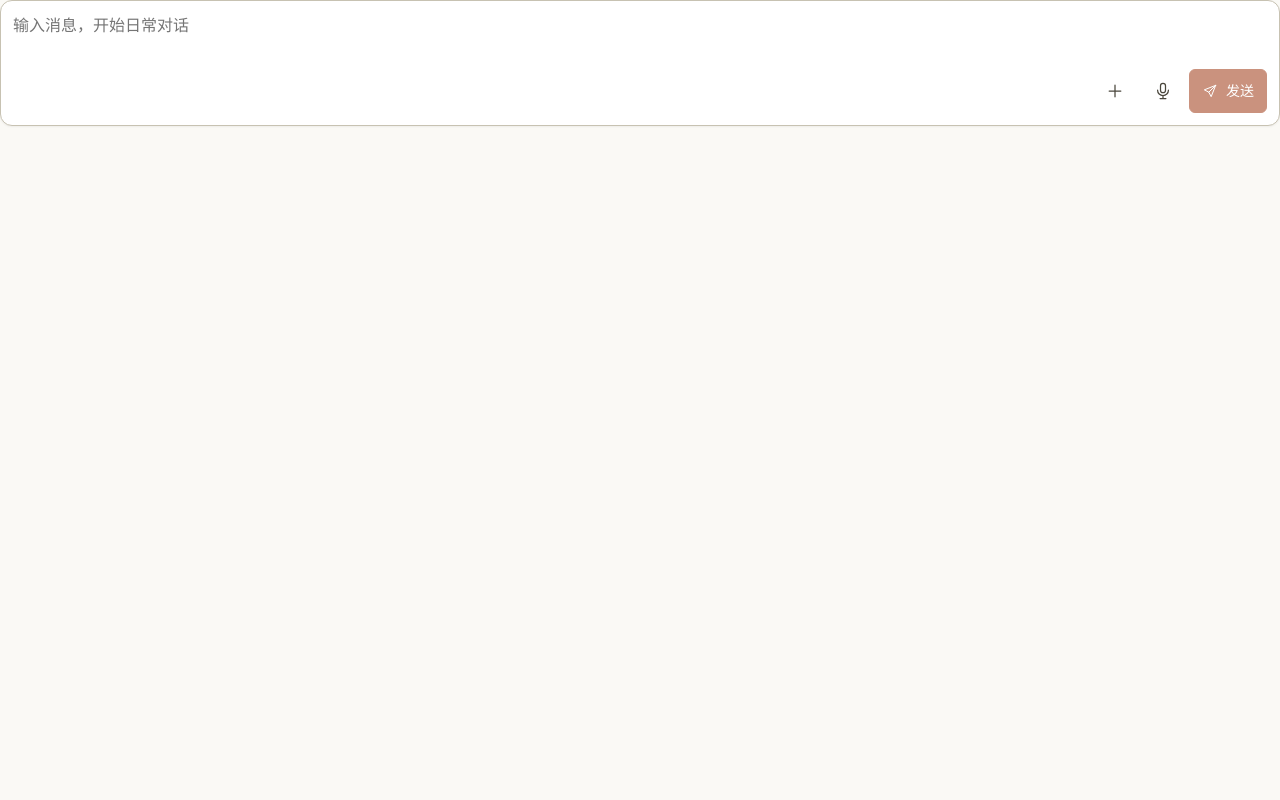
Scenario: Composer 显式模块菜单（V2 Issue 11） › Tab 与点击菜单外都关闭菜单
Press ArrowDown in the button named "添加功能或文件", box [1093,69,1137,113]
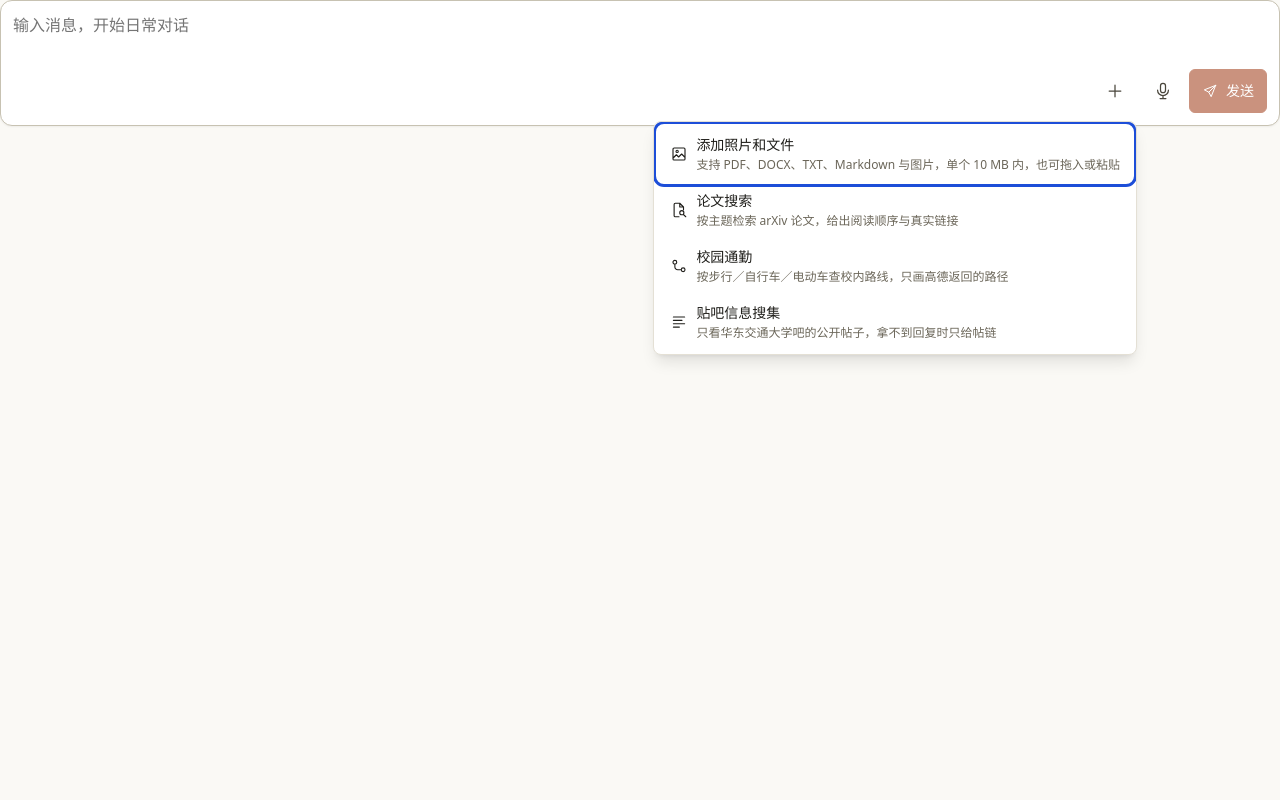
Press Tab in the menu item "添加照片和文件 支持 PDF、DOCX、TXT、Markdown 与图片，单个 10 MB 内，也可拖入或粘贴", box [658,126,1132,182]
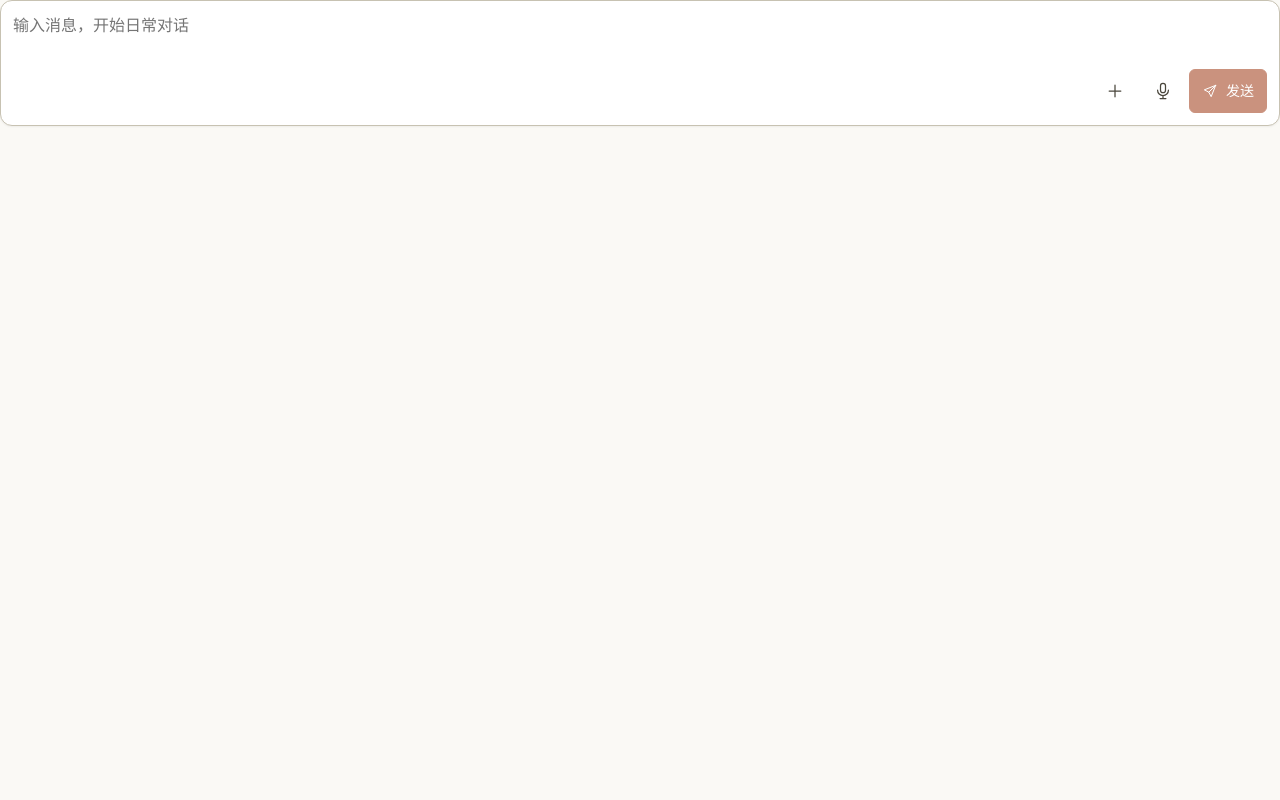
Now the menu is gone
Click the button named "添加功能或文件" at {"x": 1115, "y": 91}, box [1093,69,1137,113]
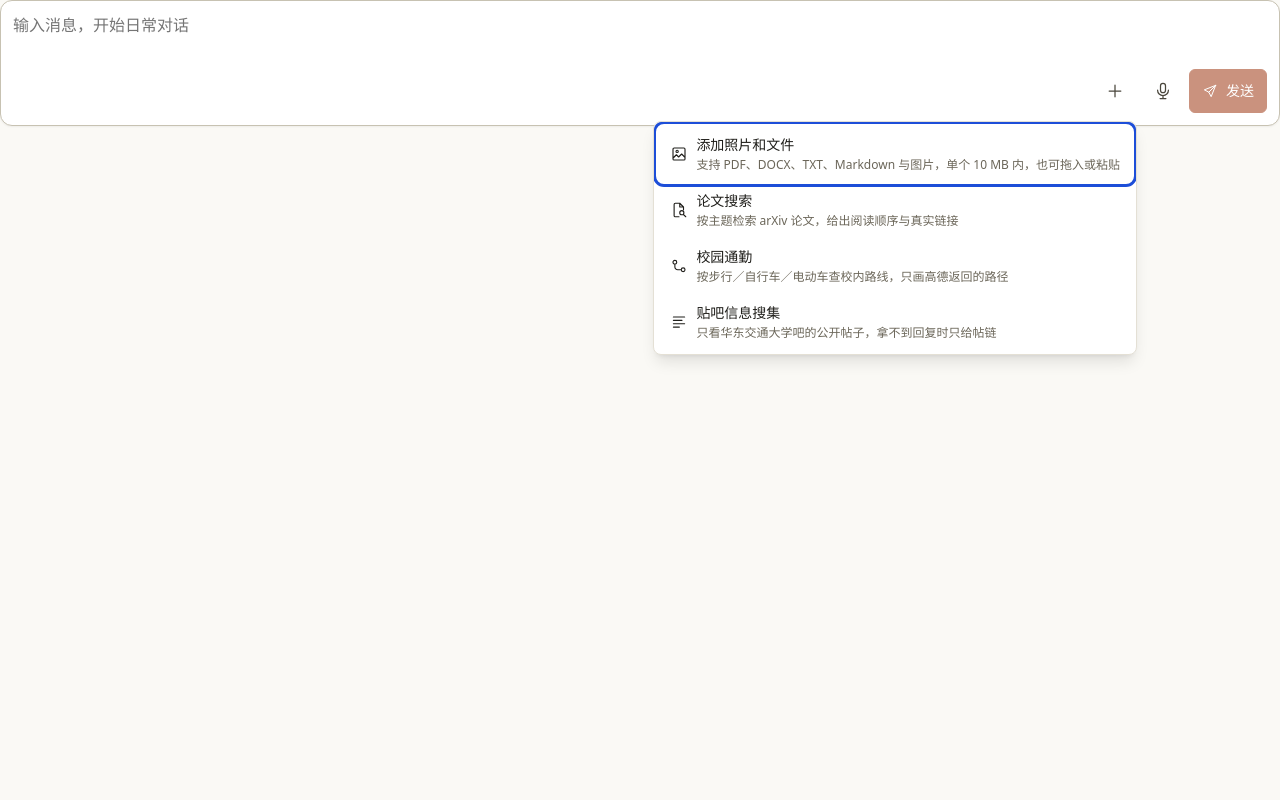
Now the menu is shown, box [653,121,1137,355]
Press the mouse on the element that starts with "添加照片和文件" at {"x": 640, "y": 400}, box [0,0,1279,799]
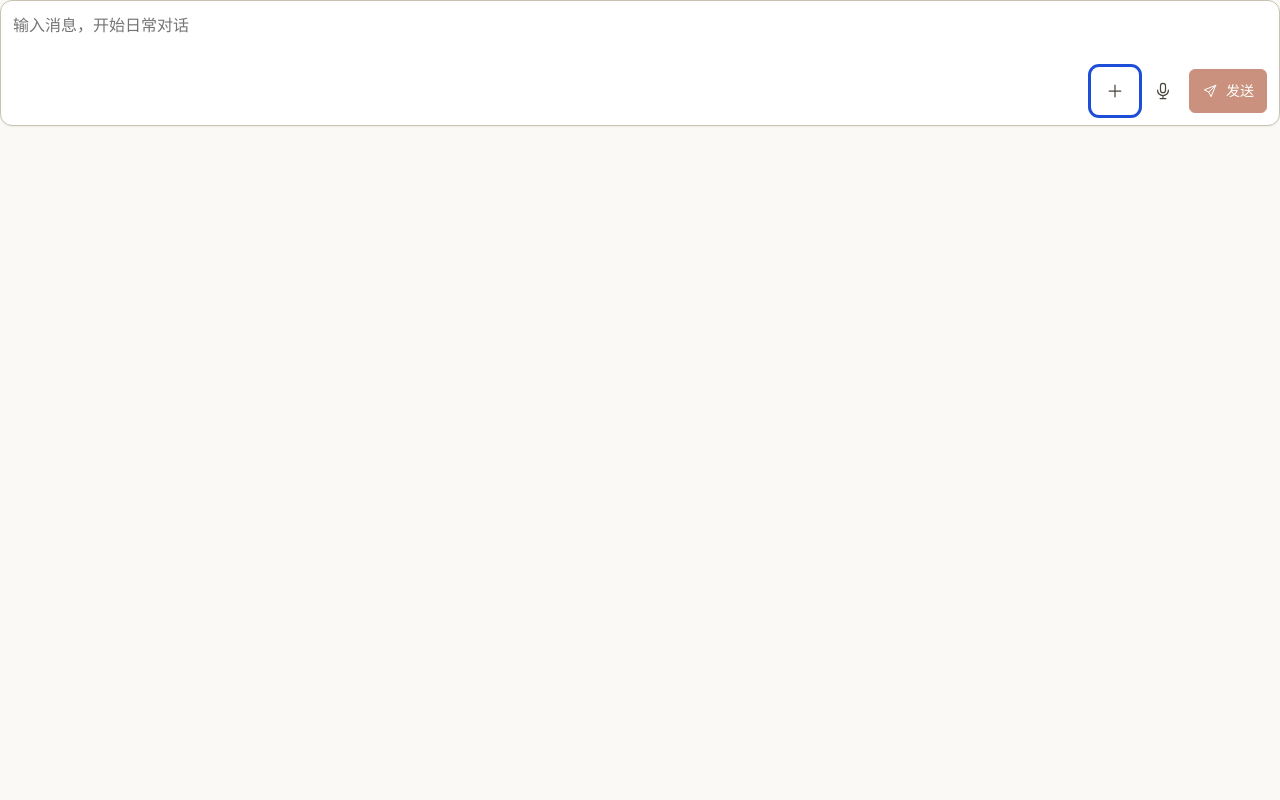
Now the menu is gone
